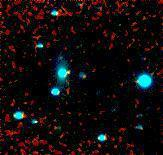star: (54, 57, 84, 87)
